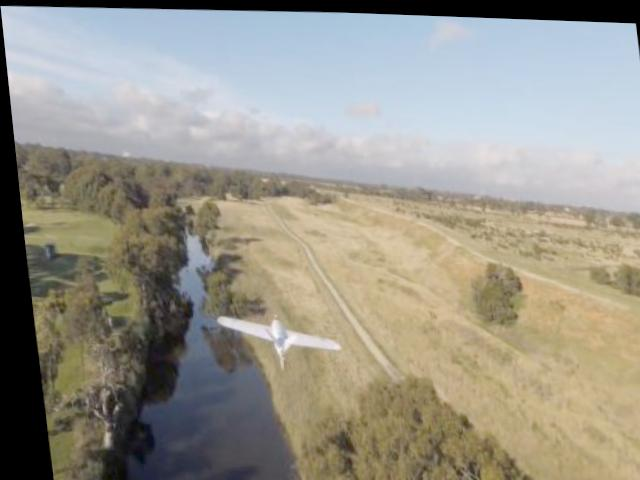uav: (208, 309, 336, 368)
